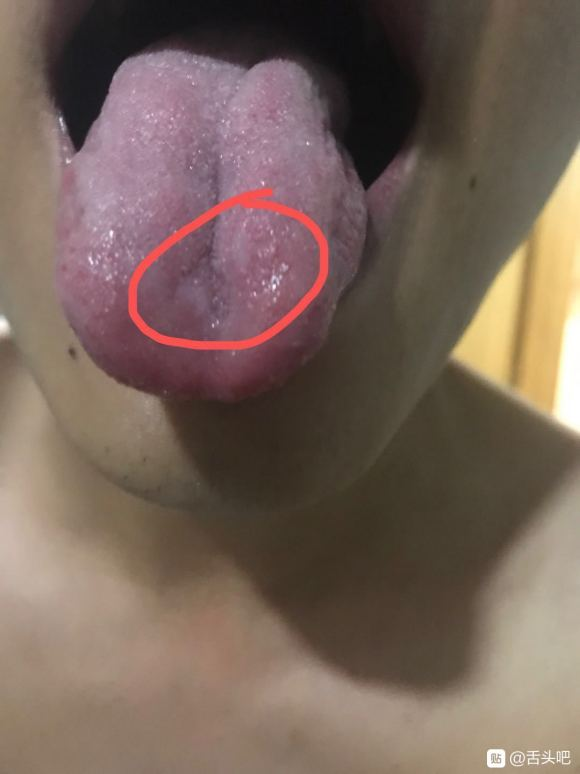baitaishe: (57, 23, 367, 401)
liewenshe: (162, 233, 218, 315)
